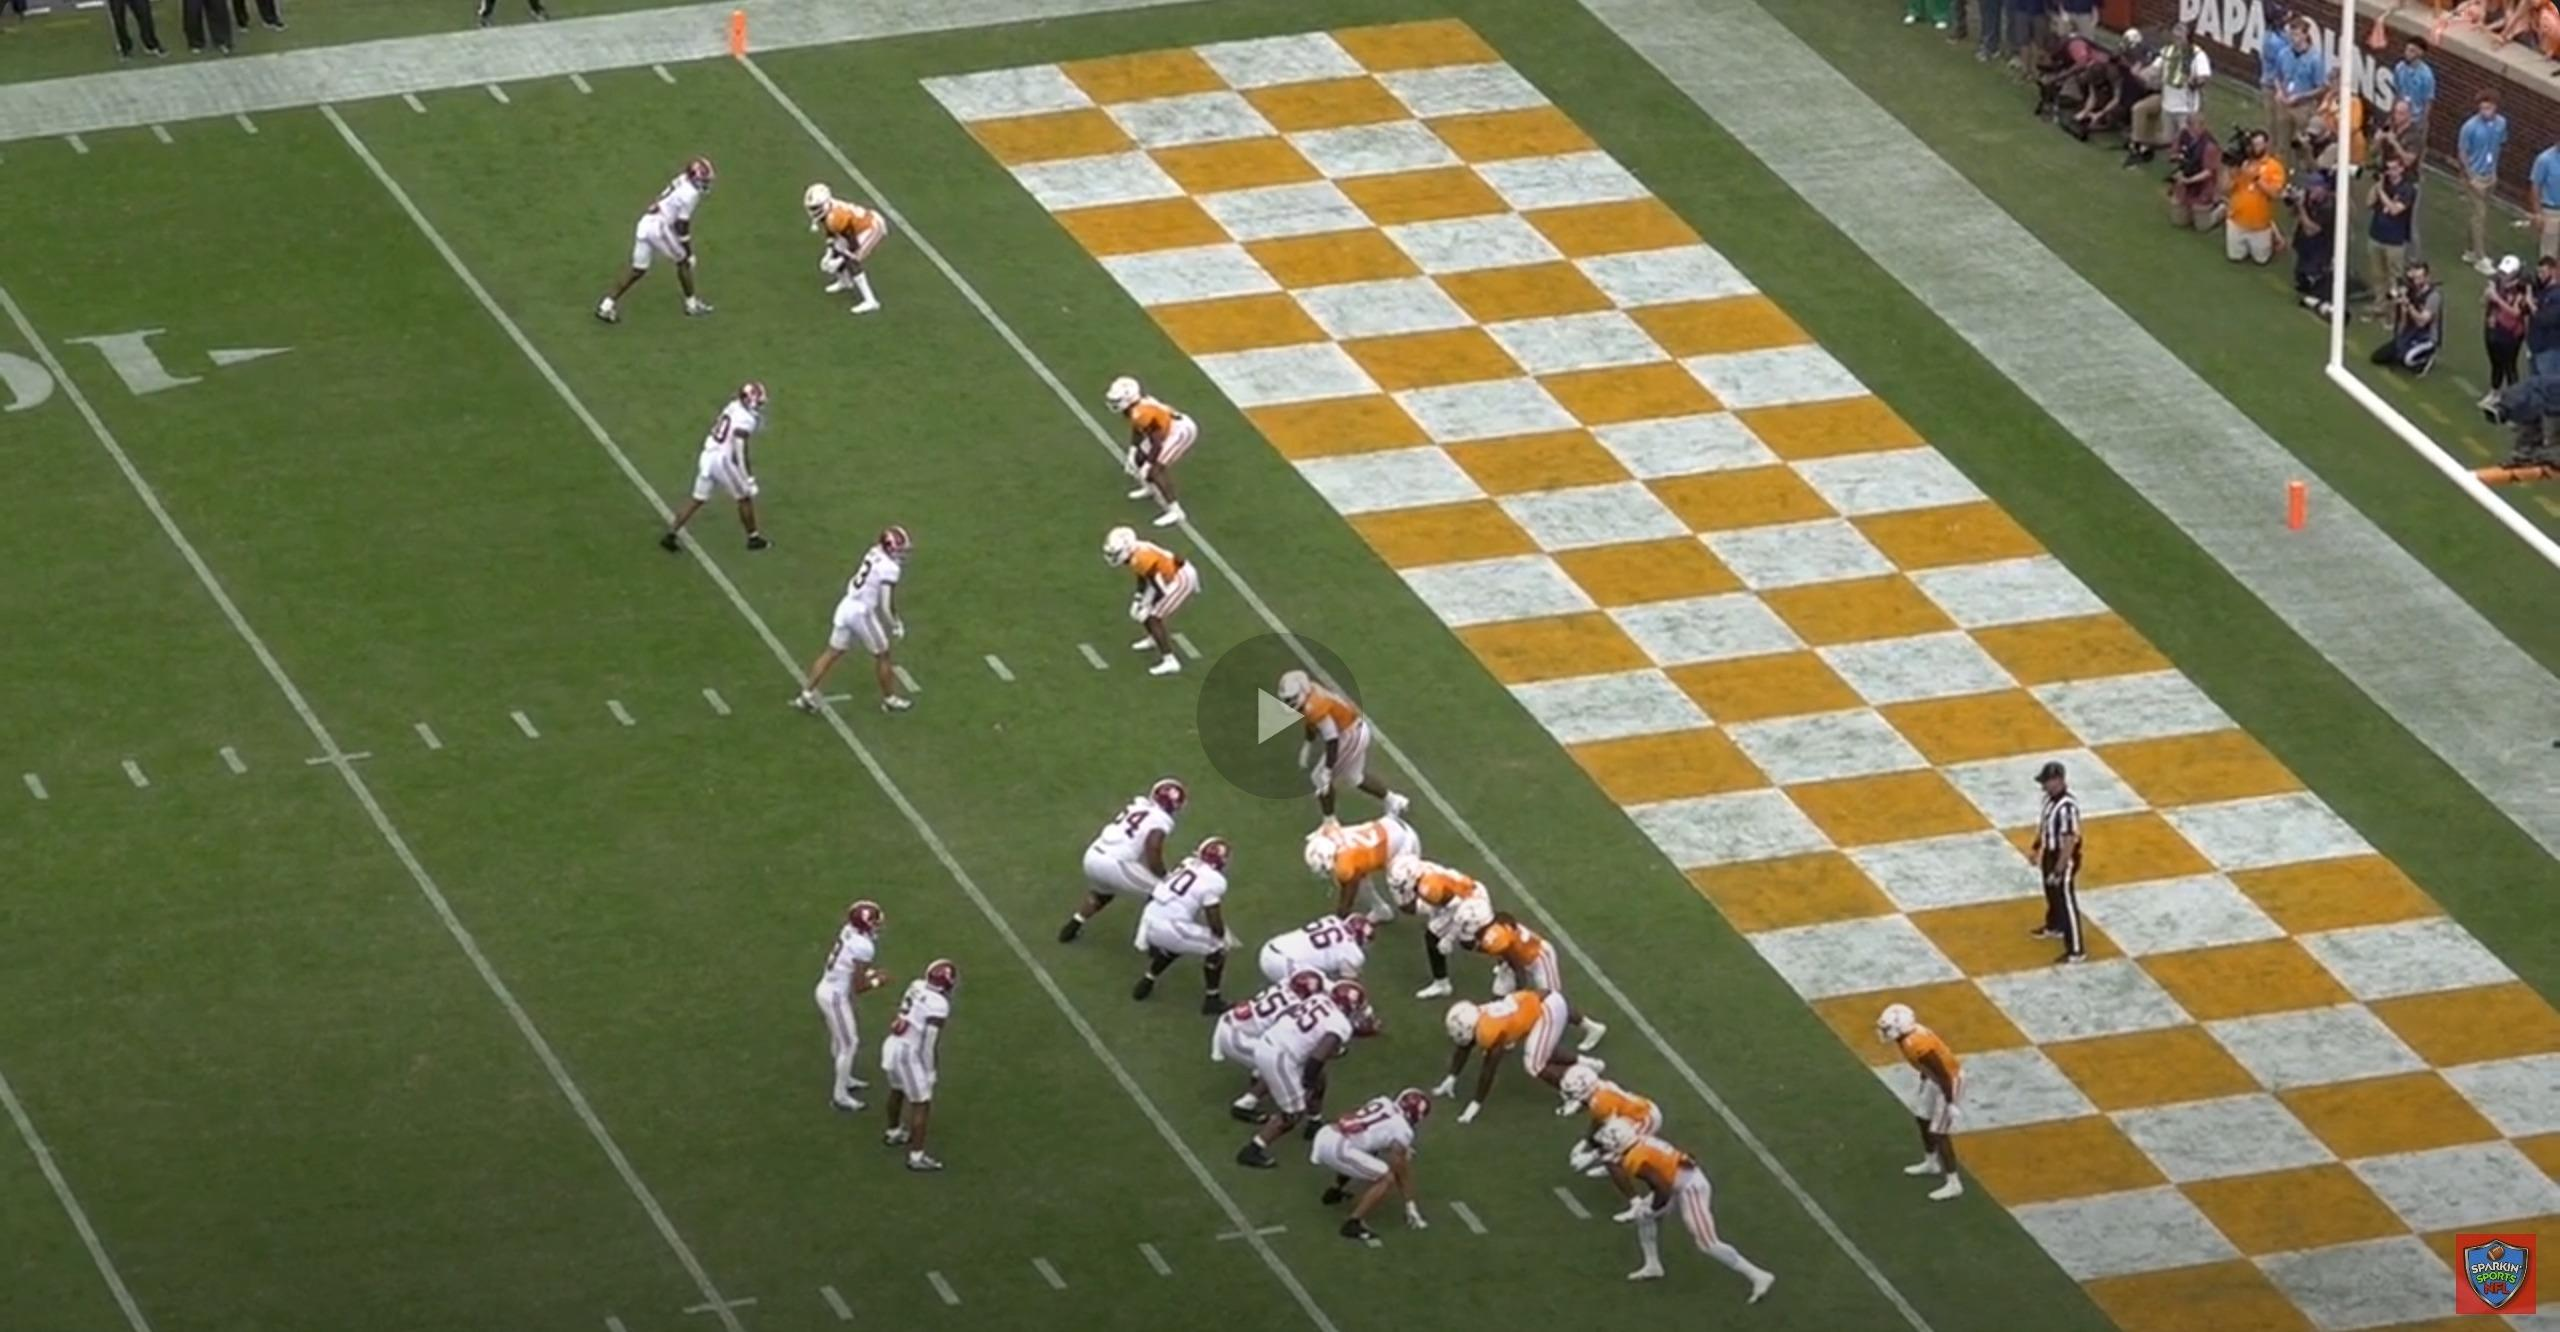defense: (1586, 1122, 1769, 1308), (1434, 993, 1612, 1132), (1459, 899, 1607, 1053), (1273, 669, 1410, 831), (1879, 999, 1979, 1210), (1300, 812, 1434, 943), (1106, 518, 1211, 680), (1106, 377, 1209, 537), (1397, 851, 1505, 1000), (791, 183, 889, 328), (1568, 1056, 1674, 1178)
oline: (1234, 977, 1390, 1171), (1050, 770, 1195, 951), (1123, 831, 1253, 1016), (1209, 968, 1329, 1122), (1246, 912, 1375, 1039)
qb: (808, 899, 896, 1124)
ref: (2023, 751, 2094, 968)
skill: (782, 518, 919, 718), (657, 377, 786, 565), (596, 149, 730, 328), (872, 956, 977, 1183), (1302, 1087, 1429, 1252)
